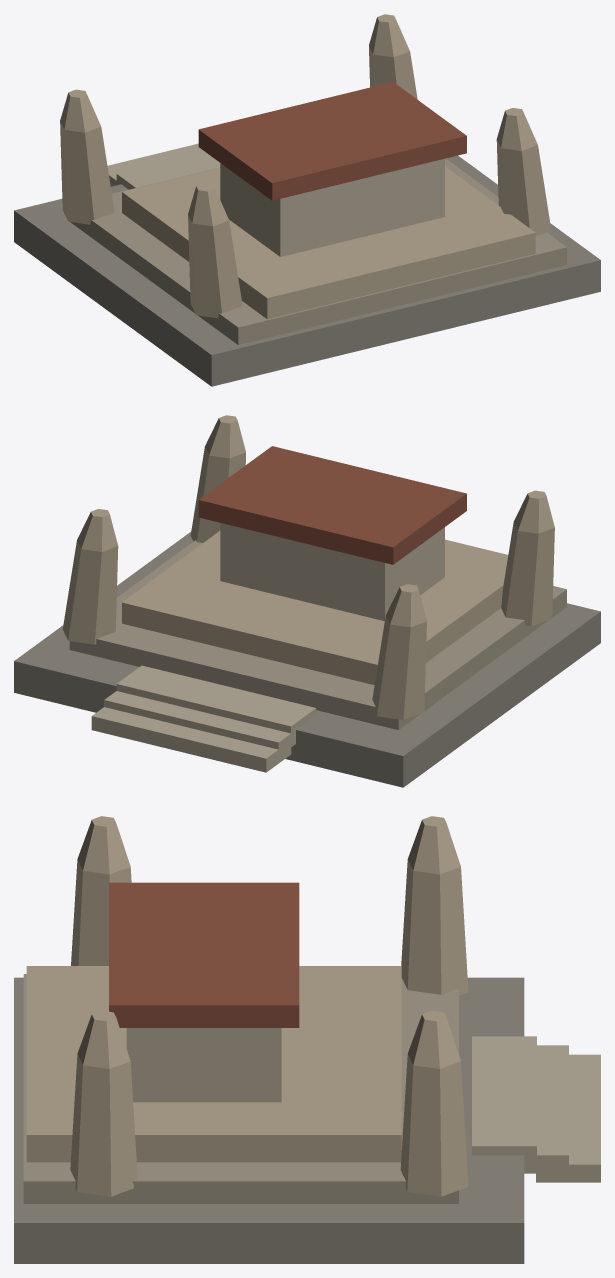
File: Dungeon_RitualDais.fbx
The picture shows the model from 3 angles, top to bottom: view 1: azimuth 30°, elevation 25°; view 2: azimuth 150°, elevation 25°; view 3: azimuth 270°, elevation 25°; orthographic projection. The views are drawn at different scales.
Parts seen in each view (by area): view 1: Dungeon_RitualDais; view 2: Dungeon_RitualDais; view 3: Dungeon_RitualDais.
Part boxes in pixels (<box>): Dungeon_RitualDais: <box>14,14,600,386</box>; Dungeon_RitualDais: <box>14,415,600,787</box>; Dungeon_RitualDais: <box>14,816,600,1263</box>.
Size of the model in its own units: 4.64 by 1.9 by 4.69.
